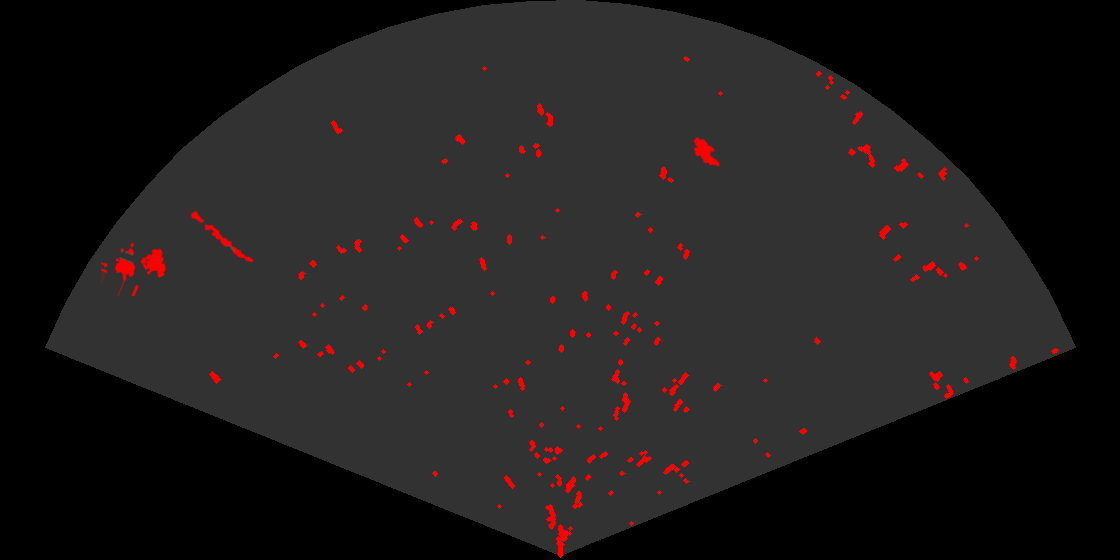AUV: (692, 135, 722, 168)
cage: (101, 241, 168, 296)
chain: (181, 205, 255, 264)
